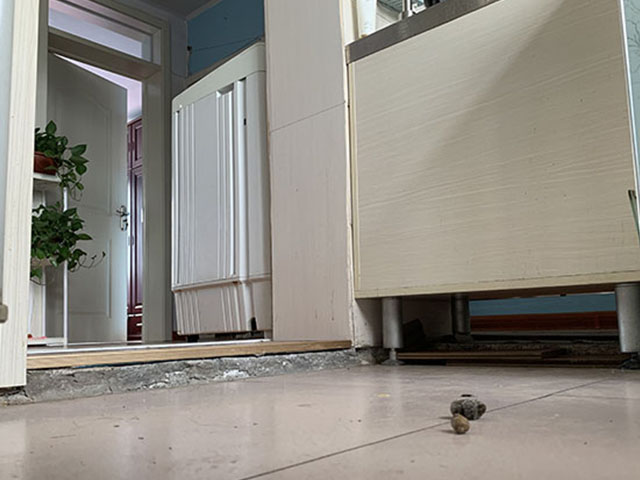cabinet: (344, 1, 640, 362)
feces: (447, 391, 488, 436)
